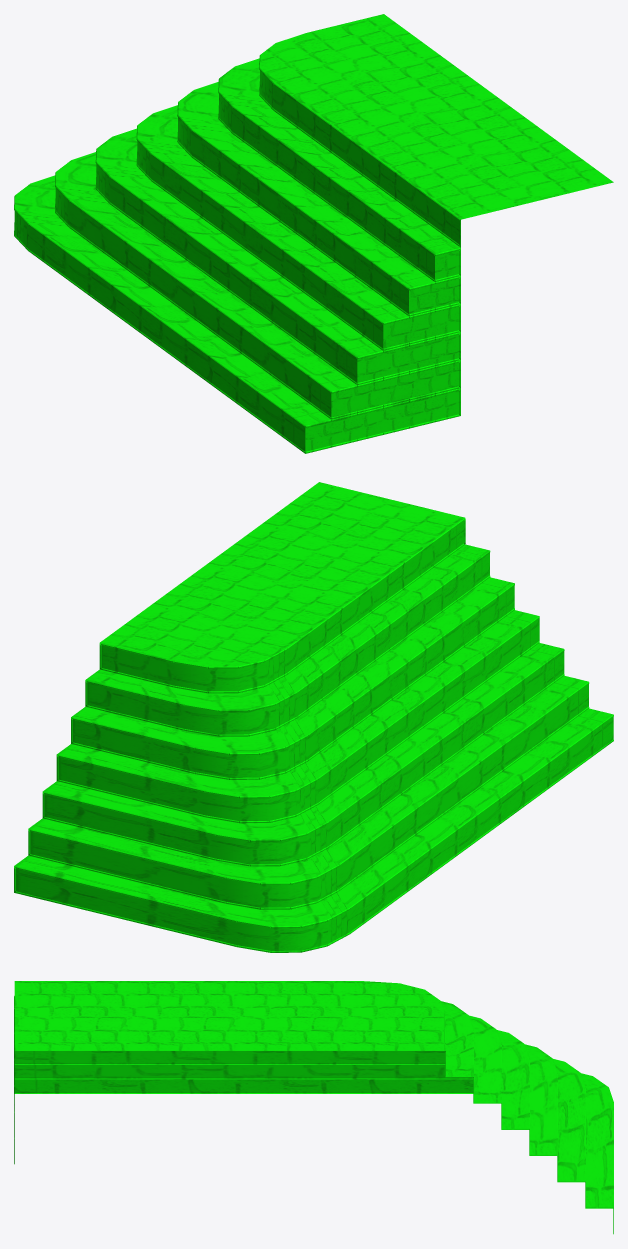
3 views of the same model, one above another, from view 1: azimuth 30°, elevation 25°; view 2: azimuth 150°, elevation 25°; view 3: azimuth 270°, elevation 25° (orthographic). The views are drawn at different scales.
Visible parts, largest first — view 1: 입구; view 2: 입구; view 3: 입구.
Part boxes in pixels (bbox=[...]): 입구: bbox=[14, 14, 613, 453]; 입구: bbox=[14, 482, 613, 952]; 입구: bbox=[14, 981, 613, 1234].
Size of the model in its own units: 179 by 109 by 321.
